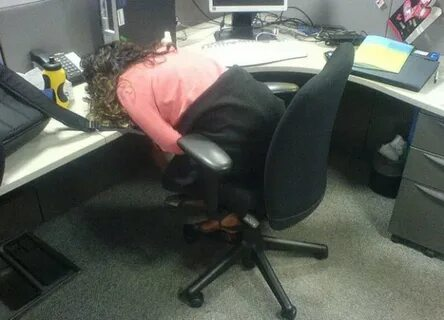sleep: (79, 40, 286, 239)
